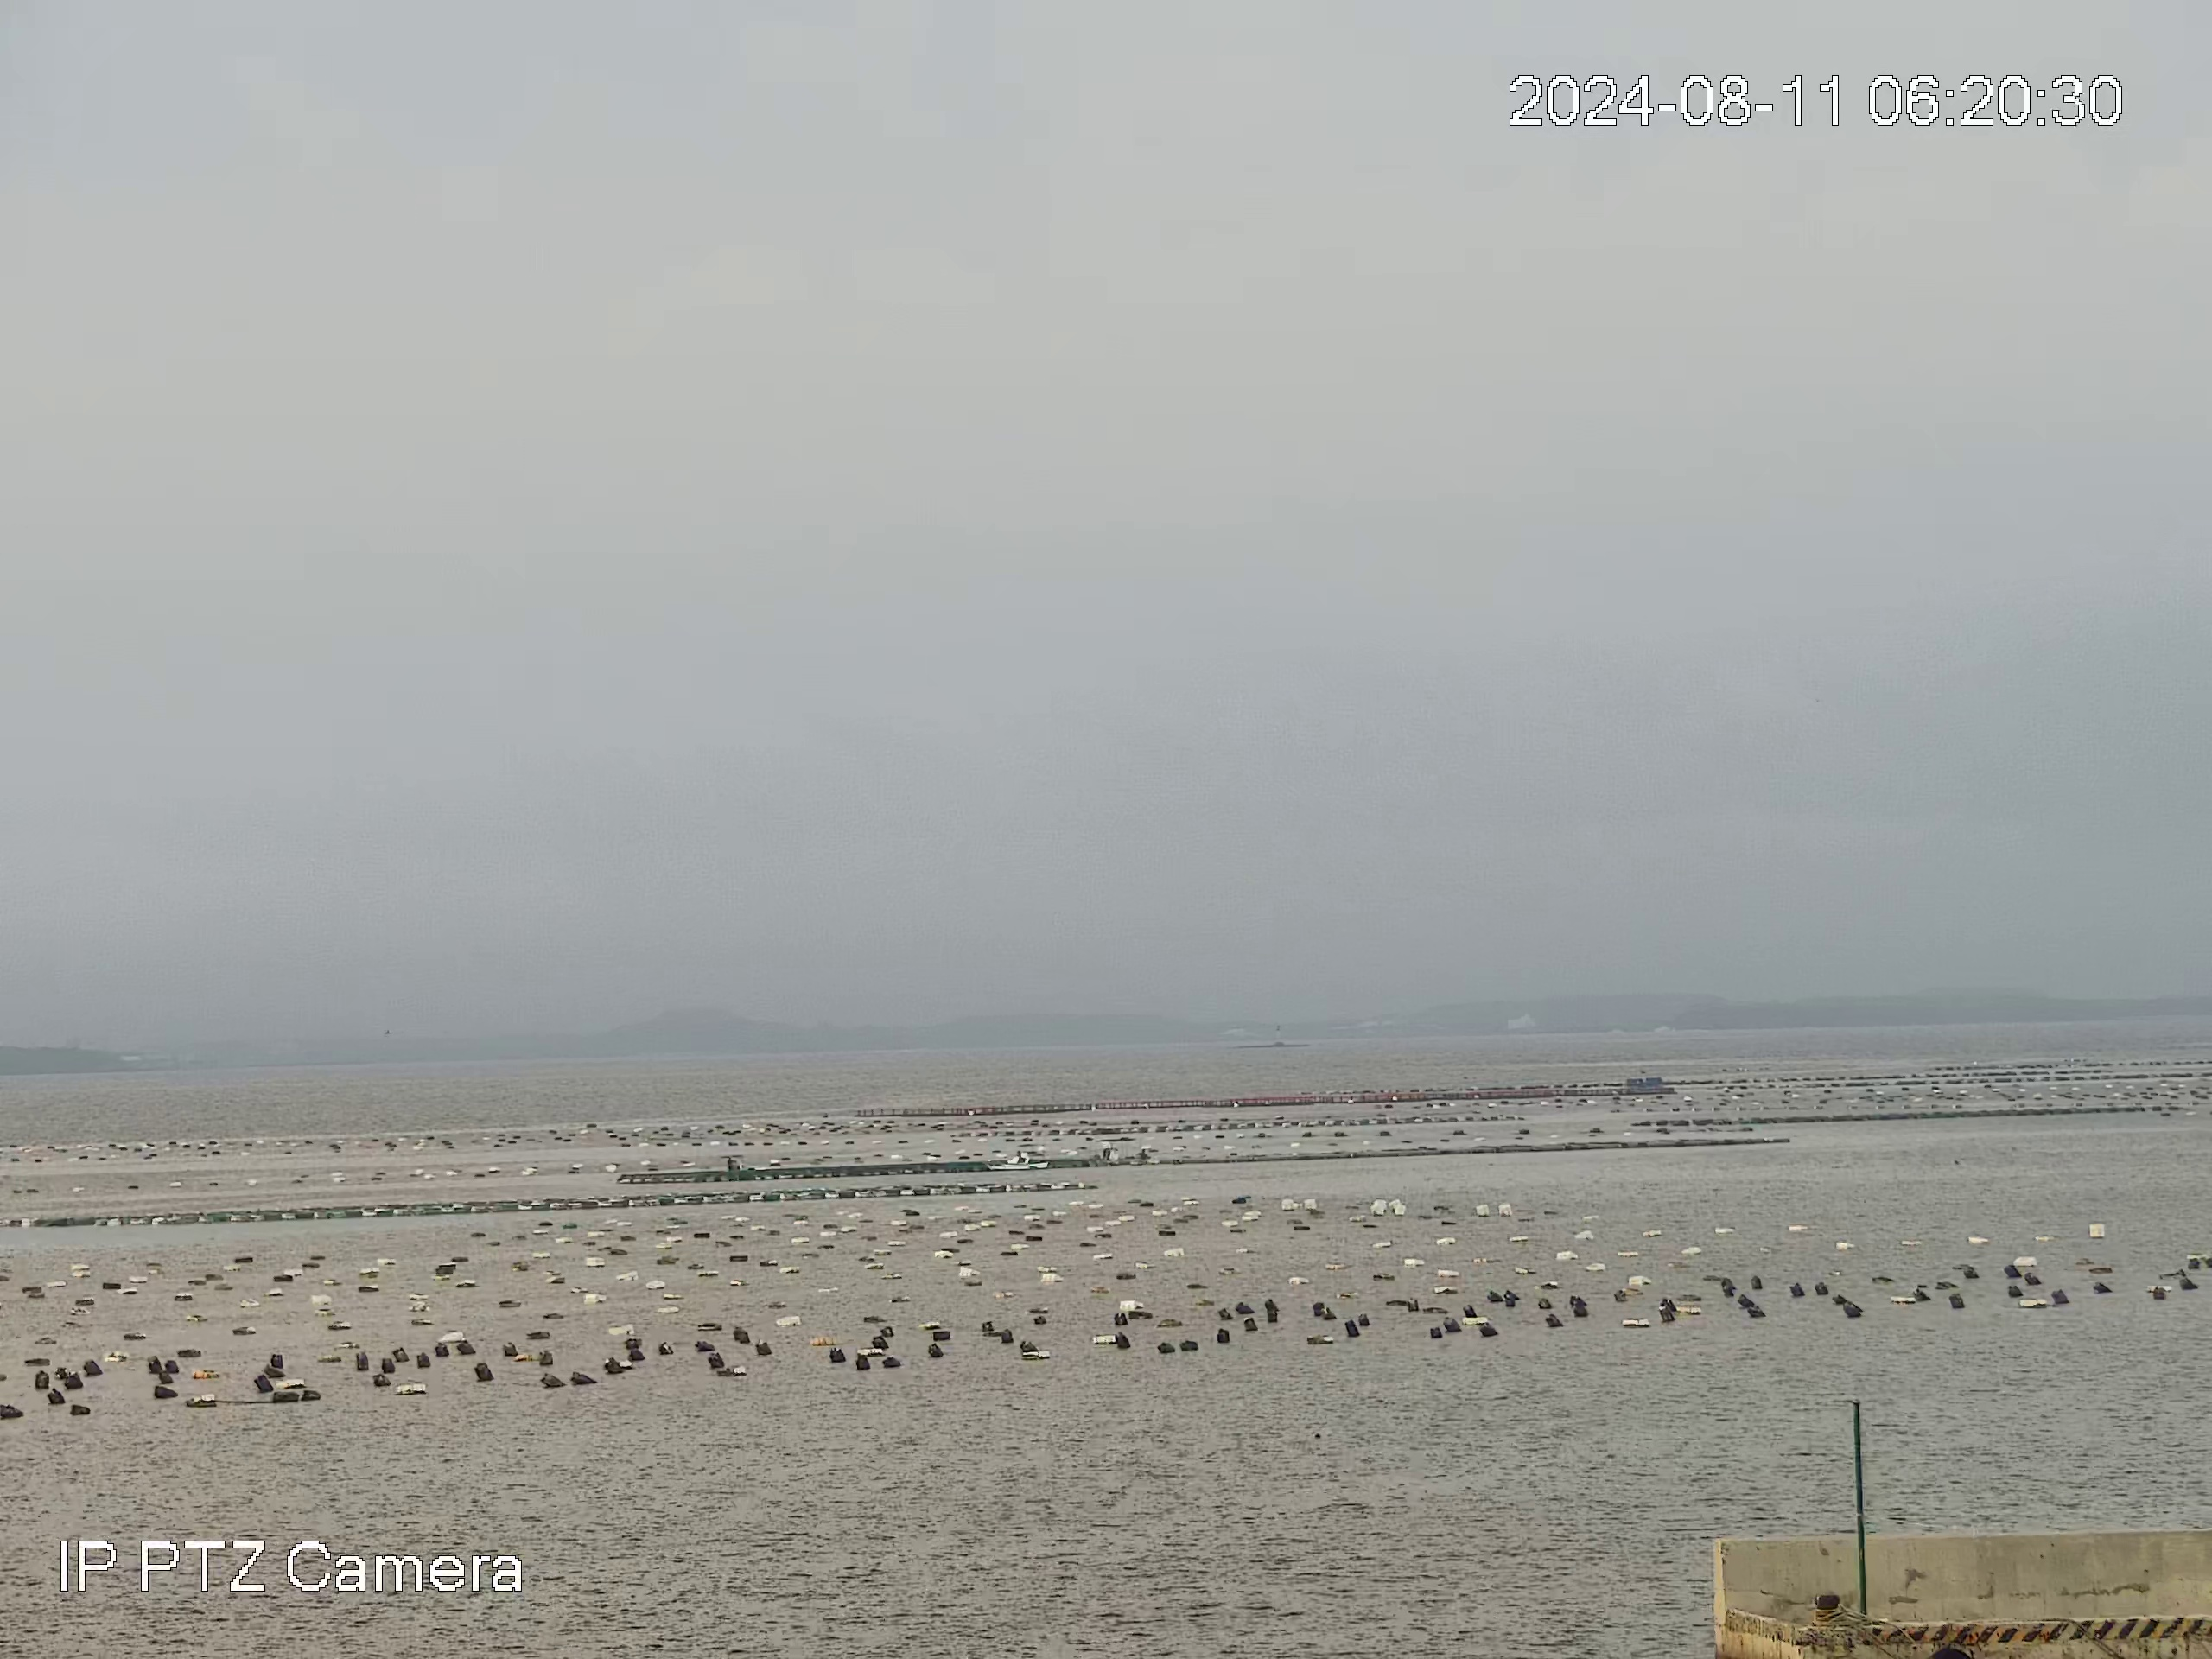boat: (979, 1148, 1054, 1171)
